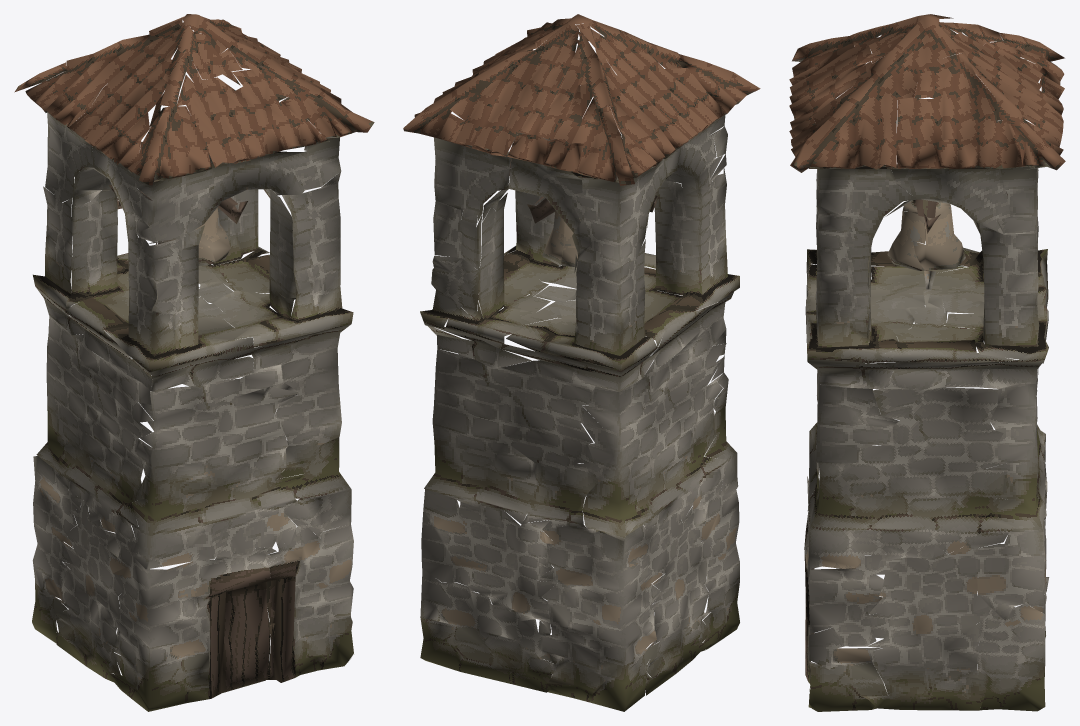
File: campanario.glb
3 renders of one model, left to right at view 1: azimuth 30°, elevation 25°; view 2: azimuth 150°, elevation 25°; view 3: azimuth 270°, elevation 25°, orthographic. The views are drawn at different scales.
Parts seen in each view (by area): view 1: tripo_node_2c4d74b6-2181-4442-b77c-62b6d250e915; view 2: tripo_node_2c4d74b6-2181-4442-b77c-62b6d250e915; view 3: tripo_node_2c4d74b6-2181-4442-b77c-62b6d250e915.
Boxes of the visible parts, x1=… form: tripo_node_2c4d74b6-2181-4442-b77c-62b6d250e915: x1=14, y1=14, x2=374, y2=711; tripo_node_2c4d74b6-2181-4442-b77c-62b6d250e915: x1=403, y1=14, x2=760, y2=711; tripo_node_2c4d74b6-2181-4442-b77c-62b6d250e915: x1=789, y1=14, x2=1065, y2=711.
Size of the model in its own units: 0.3887 by 0.9984 by 0.3872.
1 material, 1 textured.
